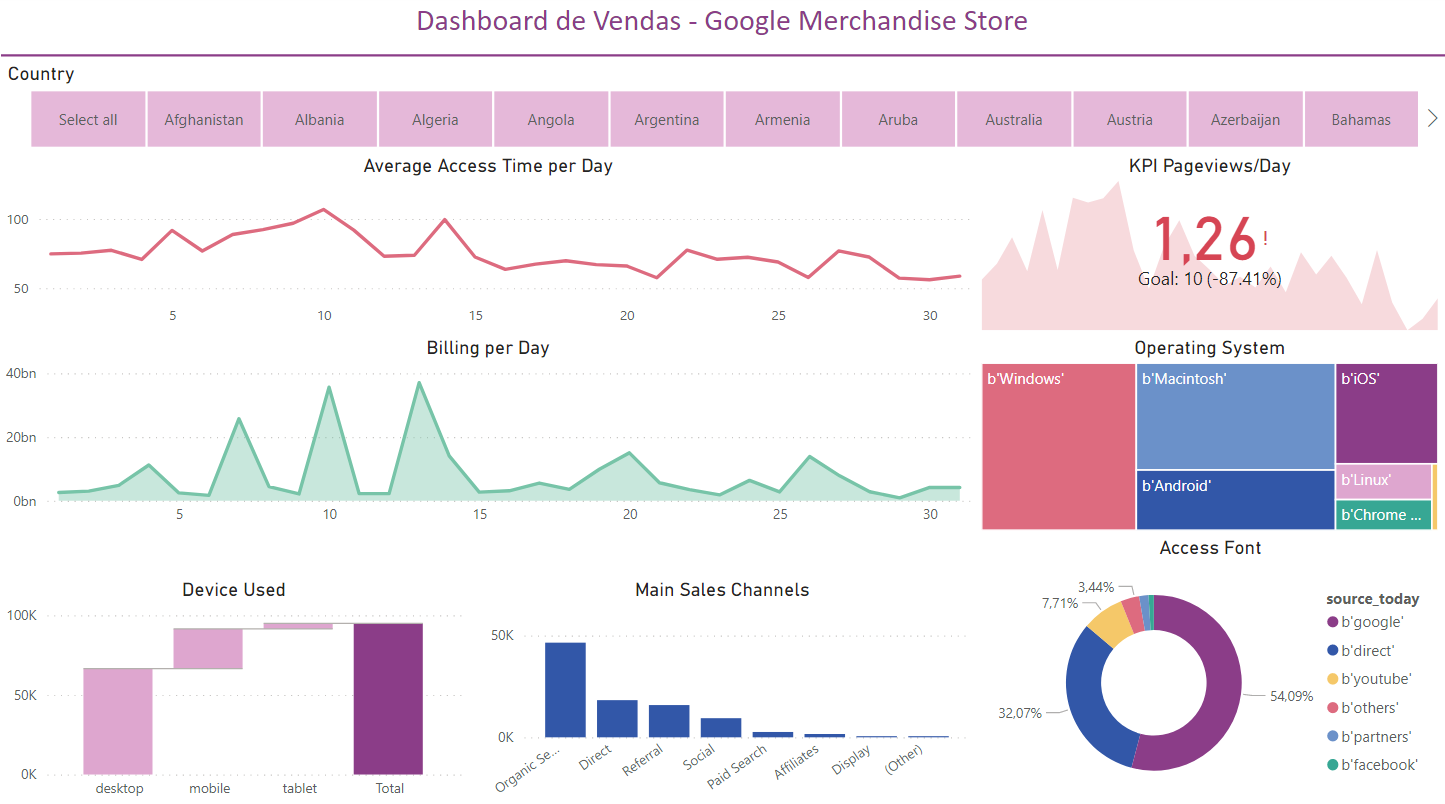

Layout of this report page (visuals, bound fields, positions):
{"tool":"powerbi","page":{"name":"Página 1","canvas":[1280,720],"ordinal":0},"visuals":[{"type":"columnChart","title":"Main Sales Channels","fields":{"Y":["CountNonNull(dataset.fullvisitorid)"],"Category":["dataset.channelgrouping"]},"box":[414.3,515.5,450.3,204.3],"z":0},{"type":"lineChart","title":"Average Access Time per Day","fields":{"Category":["dataset.date.Variation.Hierarquia de datas.Dia"],"Y":["Avg(dataset.timeonsite_st)"]},"box":[0,140.1,864.7,161.5],"z":1000},{"type":"donutChart","title":"Access Font","fields":{"Category":["dataset.source_today"],"Y":["CountNonNull(dataset.fullvisitorid)"]},"box":[864.7,478.5,415.3,241.2],"z":2000},{"type":"treemap","title":"Operating System","fields":{"Group":["dataset.operatingsystem"],"Values":["CountNonNull(dataset.fullvisitorid)"]},"box":[864.7,301.5,414.3,177],"z":3000},{"type":"waterfallChart","title":"Device Used","fields":{"Y":["CountNonNull(dataset.fullvisitorid)"],"Category":["dataset.devicecategory"]},"box":[0,515.5,414.3,204.3],"z":3001},{"type":"areaChart","title":"Billing per Day","fields":{"Category":["dataset.date.Variation.Hierarquia de datas.Dia"],"Y":["Sum(dataset.transactionrevenue_st)"]},"box":[0,301.5,864.7,176],"z":3002},{"type":"kpi","title":"KPI Pageviews/Day","fields":{"TrendLine":["dataset.date.Variation.Hierarquia de datas.Dia"],"Indicator":["Avg(dataset.pageviews_st)"],"Goal":["dataset.goal"]},"box":[864.7,140.1,414.3,161.5],"z":3003},{"type":"shape","box":[1,45.7,1279,12.6],"z":3004},{"type":"textbox","box":[296.7,0,685.7,45.7],"z":3005},{"type":"slicer","title":"Country","fields":{"Values":["dataset.country"]},"box":[1.9,58.4,1278.1,81.7],"z":3006}]}

Visuals, with their boxes in screenshot pixels (x1, y1, x2, y2), scaled from the page's 1280x720 canvas onto the 1445x804 screenshot:
"Main Sales Channels" columnChart: (left=468, top=576, right=976, bottom=803)
"Average Access Time per Day" lineChart: (left=0, top=156, right=976, bottom=337)
"Access Font" donutChart: (left=976, top=534, right=1444, bottom=803)
"Operating System" treemap: (left=976, top=337, right=1444, bottom=534)
"Device Used" waterfallChart: (left=0, top=576, right=468, bottom=803)
"Billing per Day" areaChart: (left=0, top=337, right=976, bottom=533)
"KPI Pageviews/Day" kpi: (left=976, top=156, right=1444, bottom=337)
shape: (left=1, top=51, right=1444, bottom=65)
textbox: (left=335, top=0, right=1109, bottom=51)
"Country" slicer: (left=2, top=65, right=1444, bottom=156)
